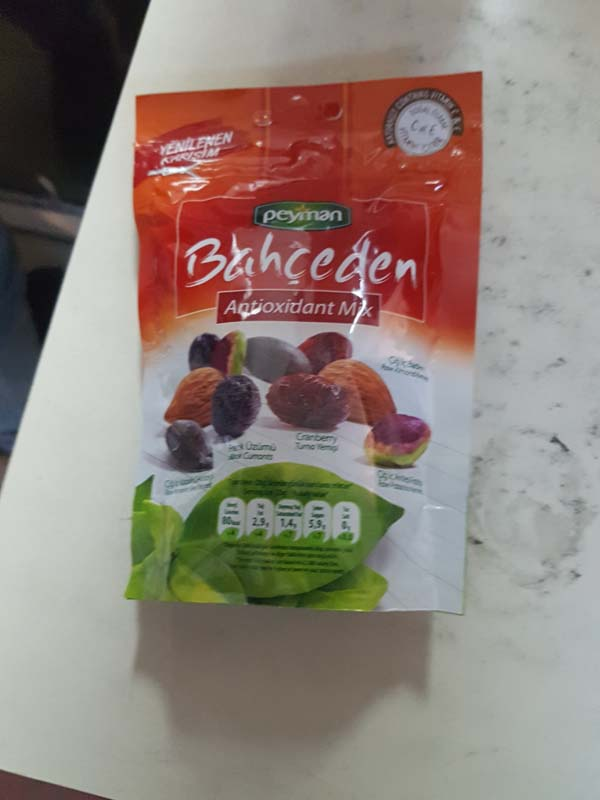bahcedenantioxidan: (120, 72, 497, 634)
